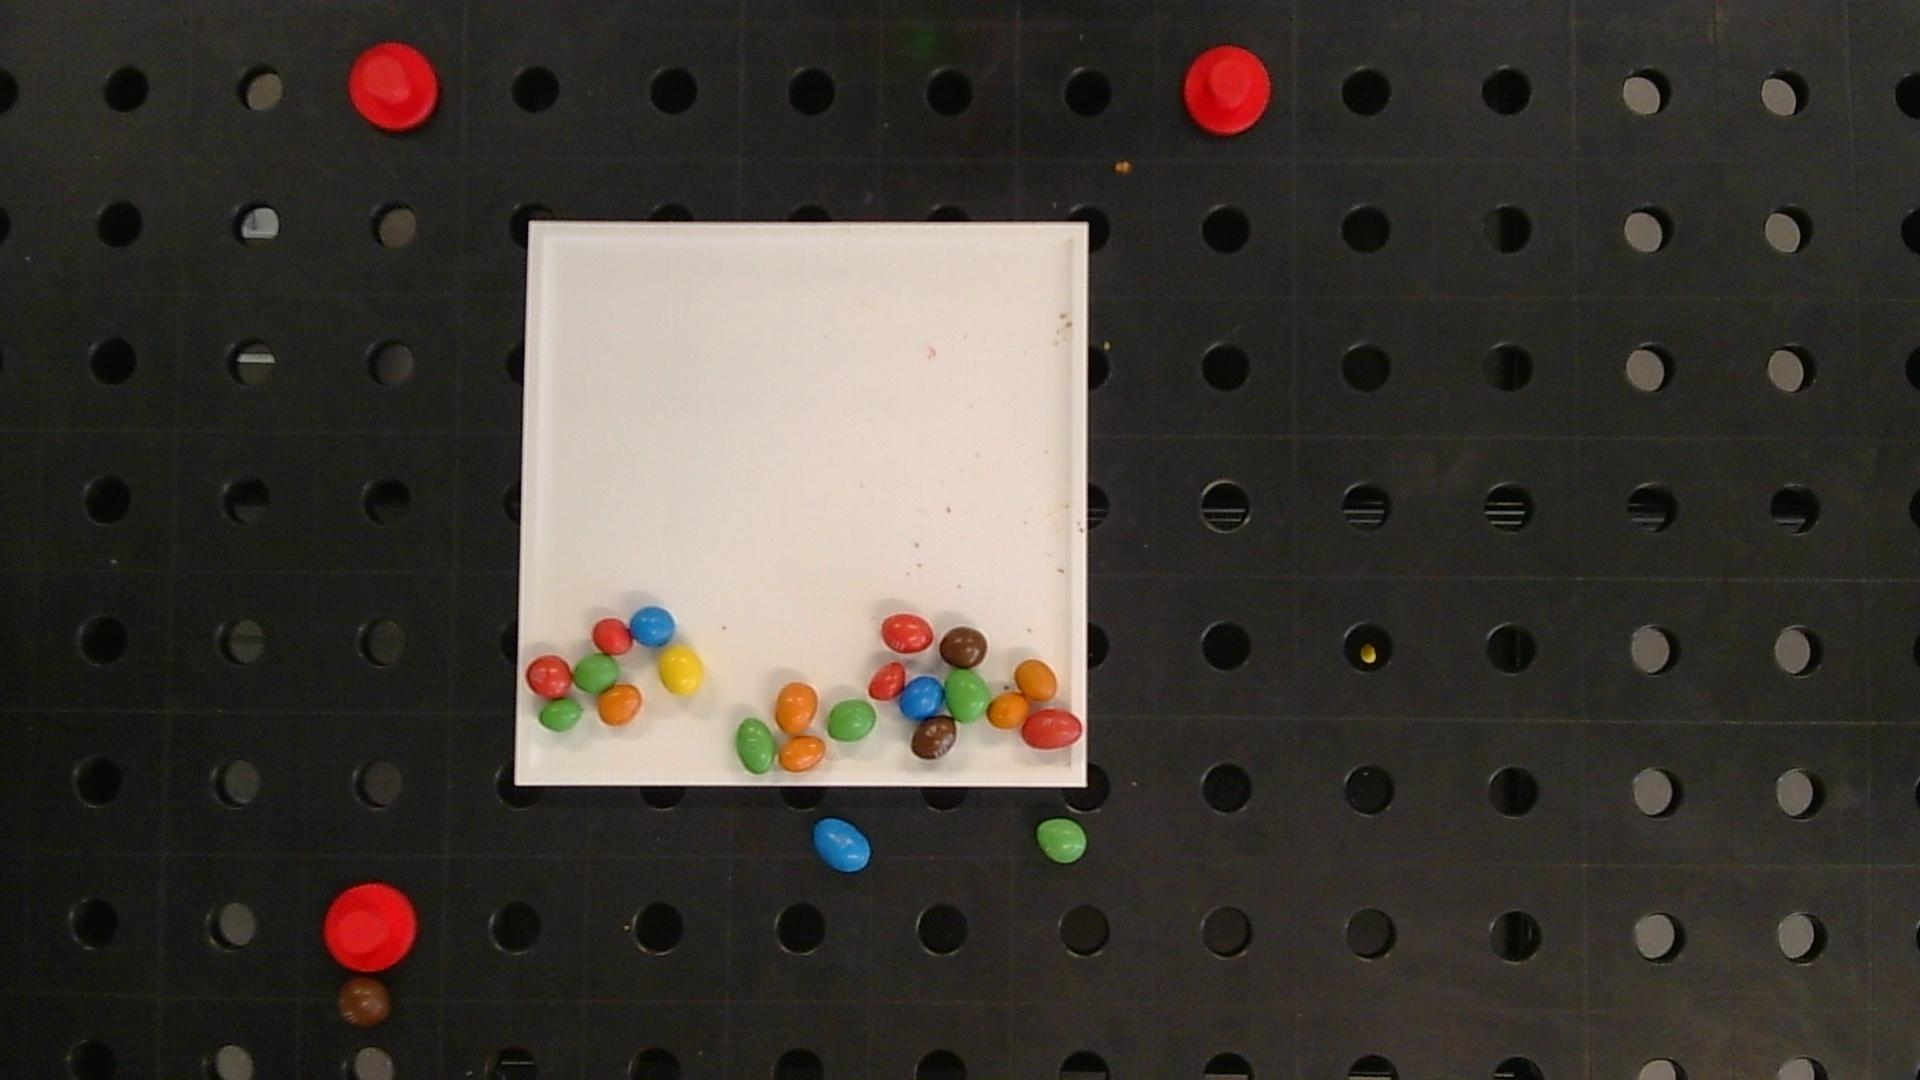blue: (814, 818, 872, 873), (899, 676, 944, 720), (629, 605, 675, 647)
brown: (939, 625, 988, 669), (911, 715, 957, 760)
green: (1036, 819, 1088, 864), (736, 717, 777, 773), (944, 671, 989, 721), (828, 699, 877, 741), (574, 654, 618, 692), (538, 699, 583, 732)
orange: (775, 682, 819, 735), (597, 683, 642, 725), (1015, 658, 1058, 702), (779, 736, 824, 771), (988, 694, 1030, 728)
red: (1021, 709, 1083, 748), (881, 613, 934, 653), (525, 654, 572, 698), (592, 618, 632, 655), (868, 662, 906, 699)
yellow: (658, 646, 704, 695)
